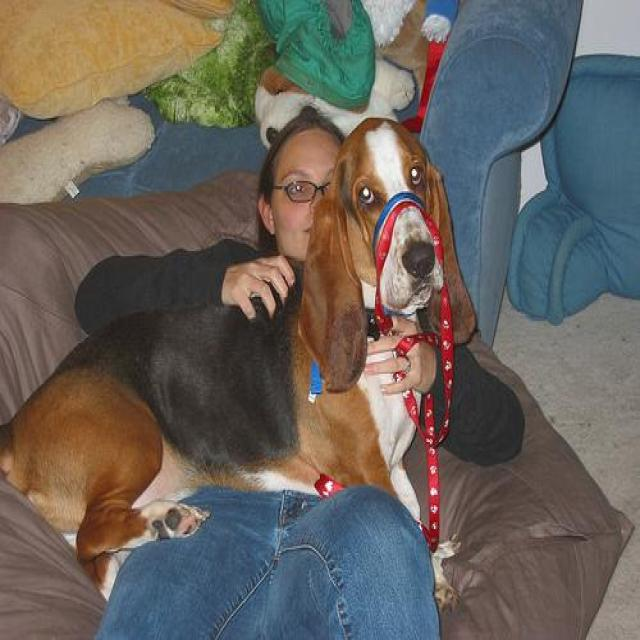basset: (0, 114, 480, 622)
